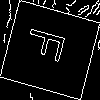F: (24, 25, 74, 67)
